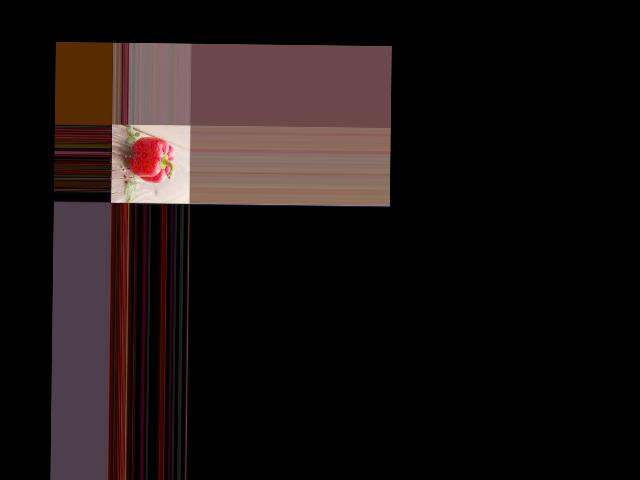bell_pepper: (127, 133, 178, 185)
